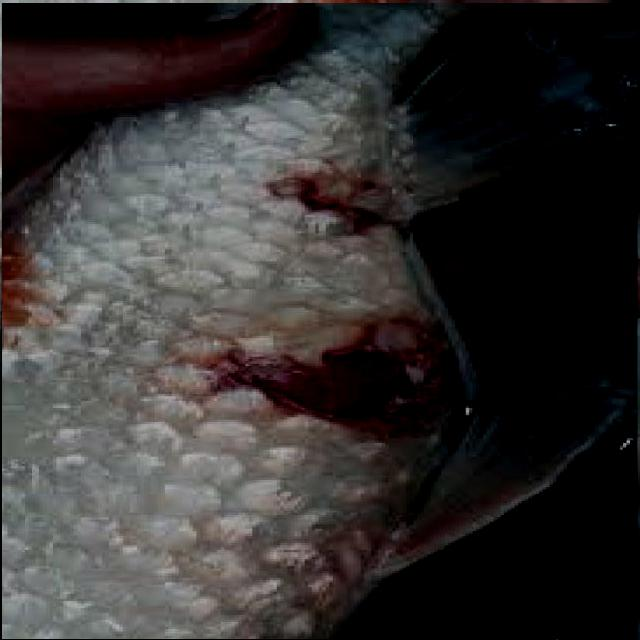EUS Disease: (1, 3, 638, 640), (149, 196, 532, 477)
